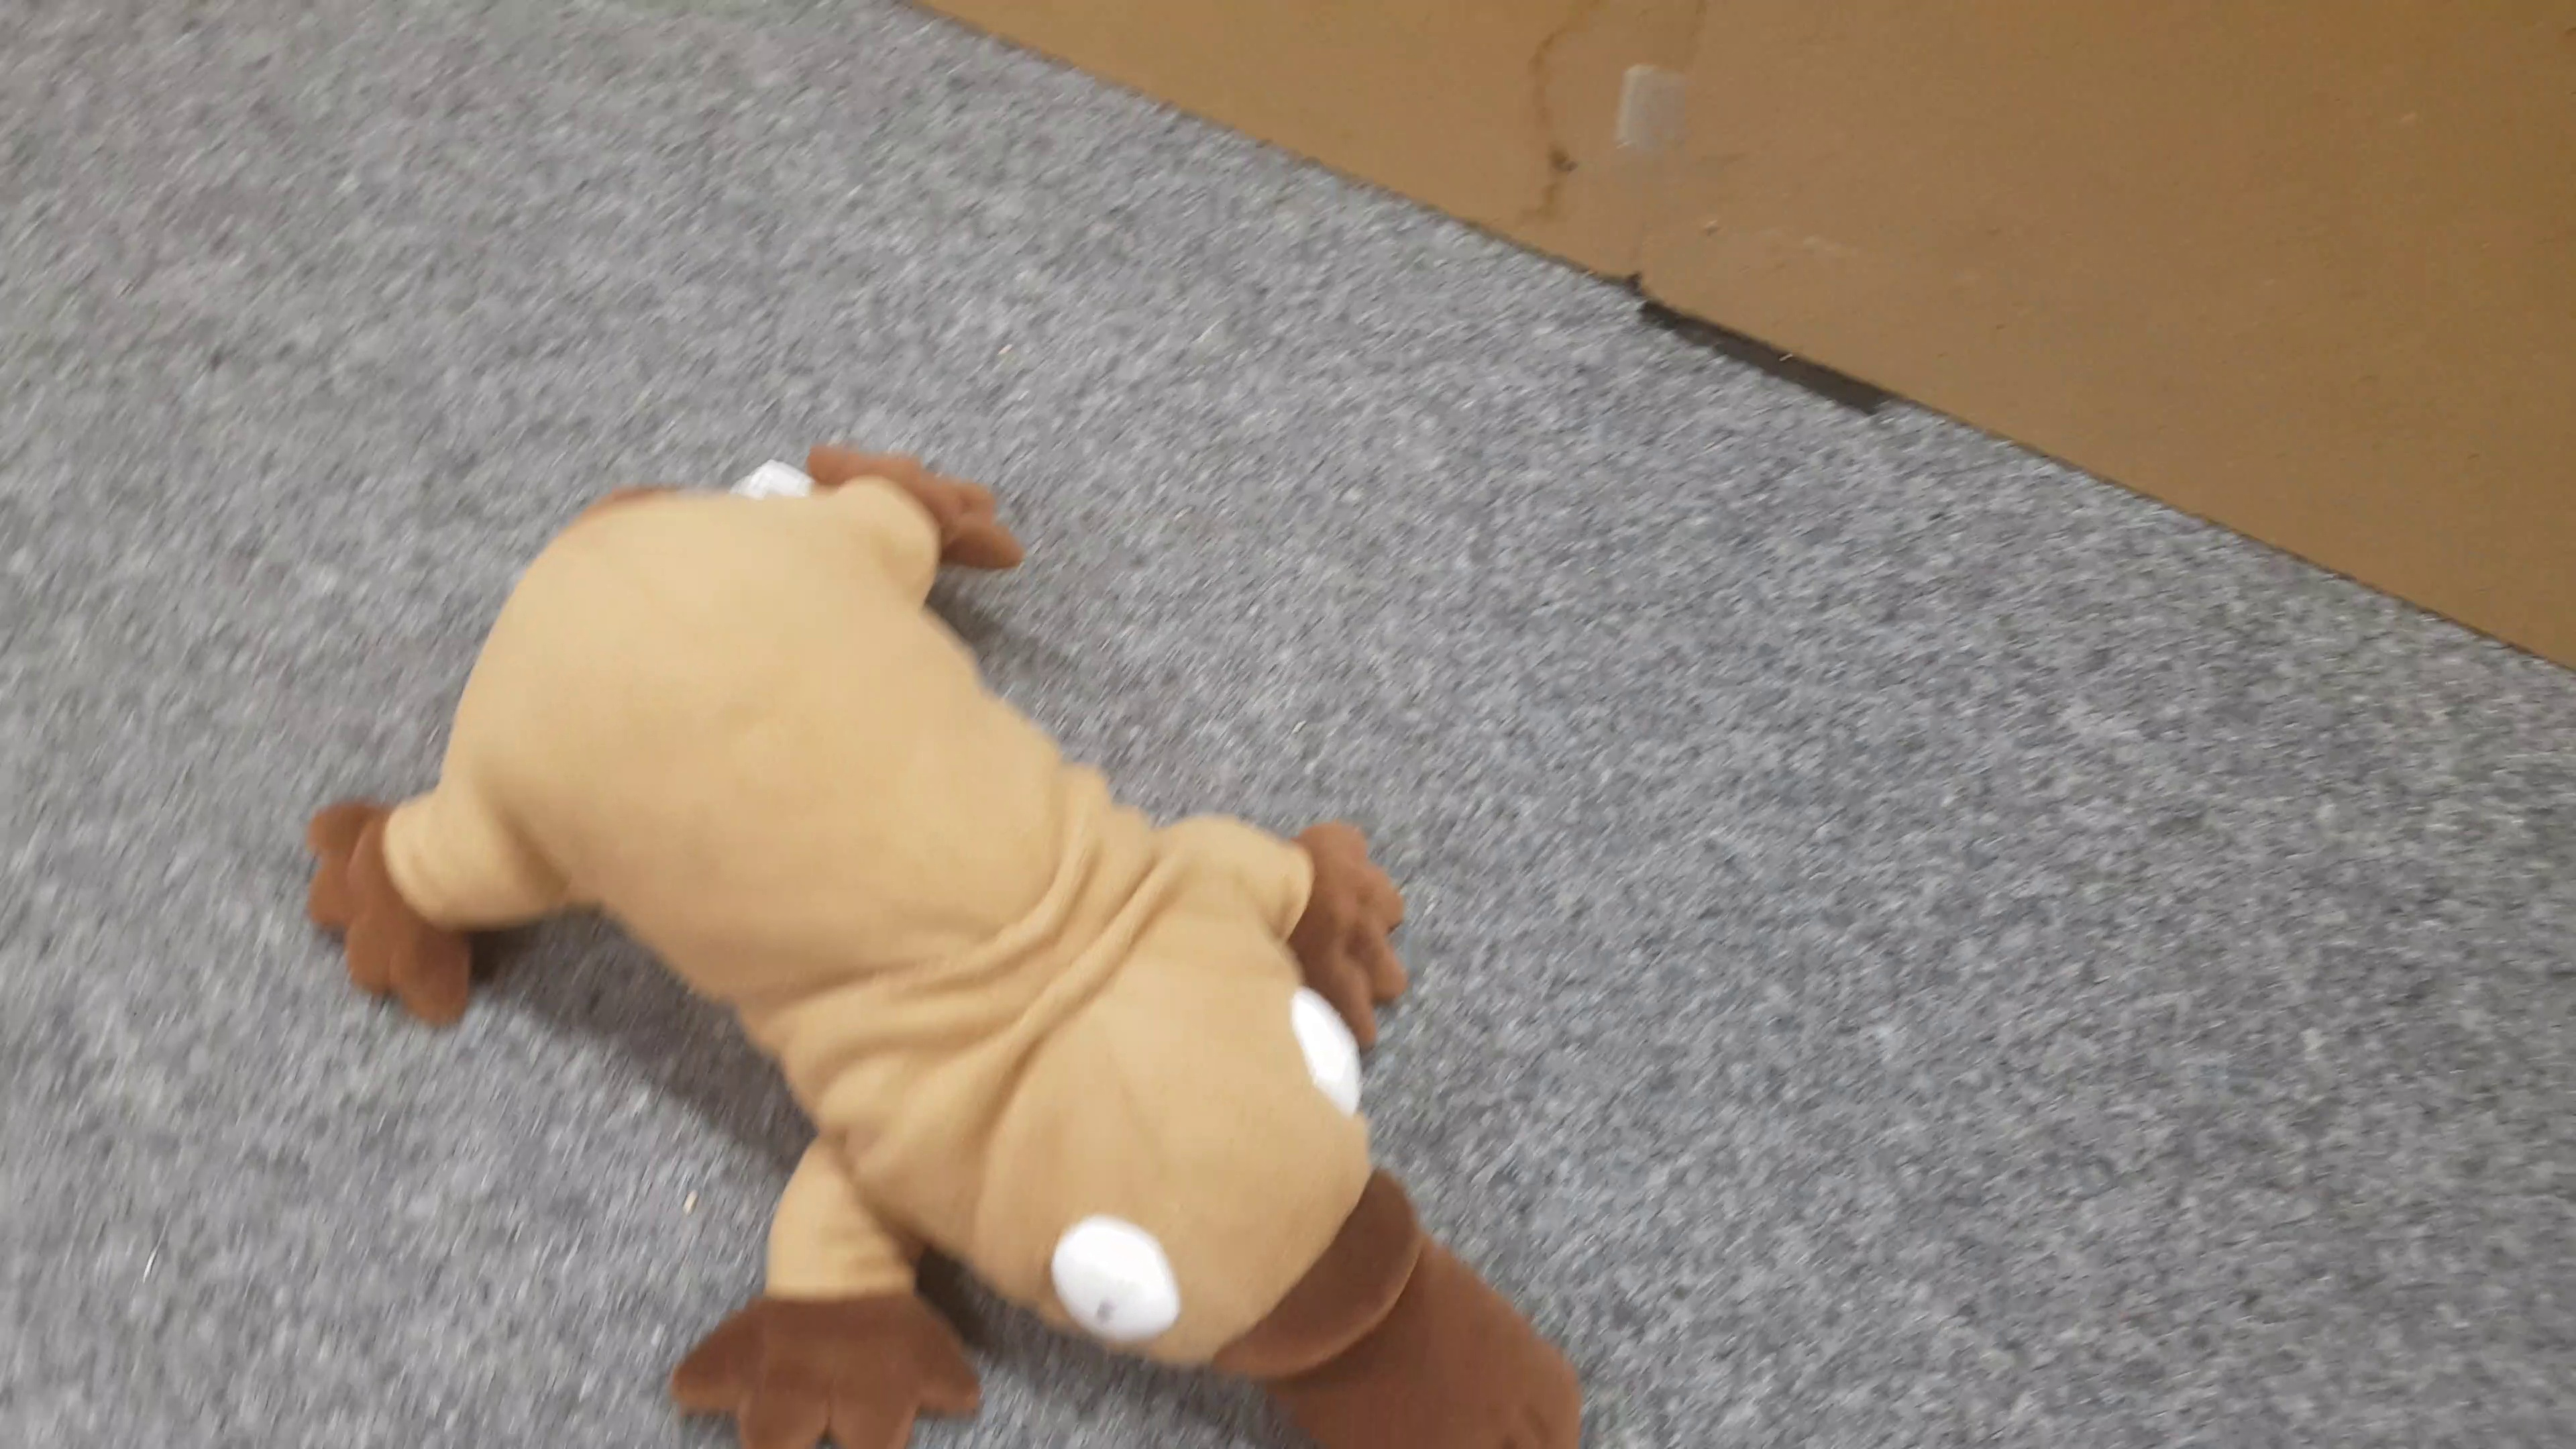grasp: (303, 433, 1587, 1449)
